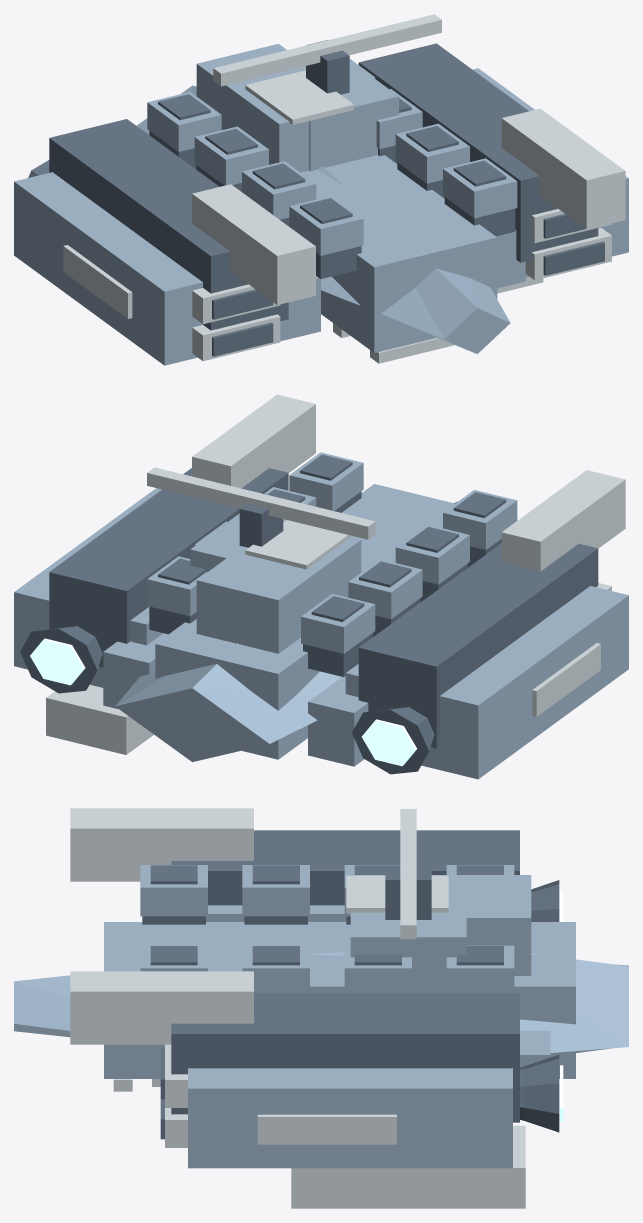
3 renders of one model, top to bottom at view 1: azimuth 30°, elevation 25°; view 2: azimuth 150°, elevation 25°; view 3: azimuth 270°, elevation 25°, orthographic. The views are drawn at different scales.
Size of the model in its own units: 18.48 by 8.88 by 19.28.
